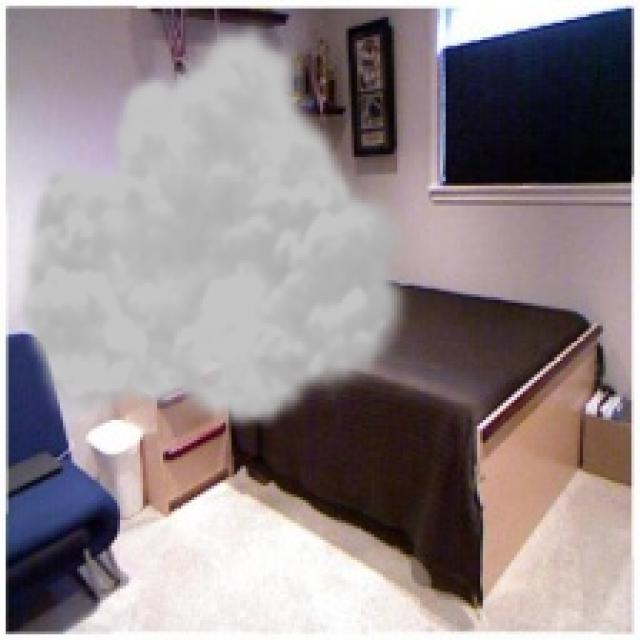smoke: (11, 14, 420, 432)
